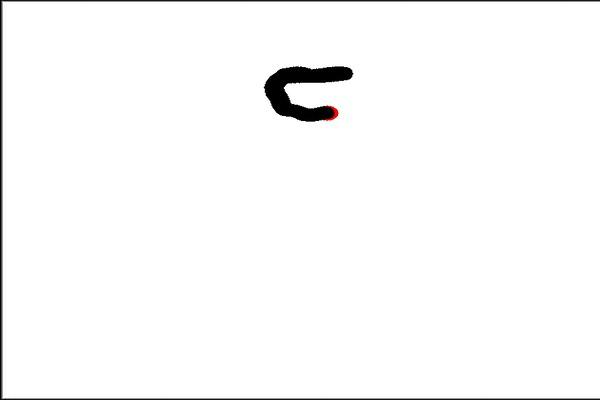C: (257, 54, 356, 134)
